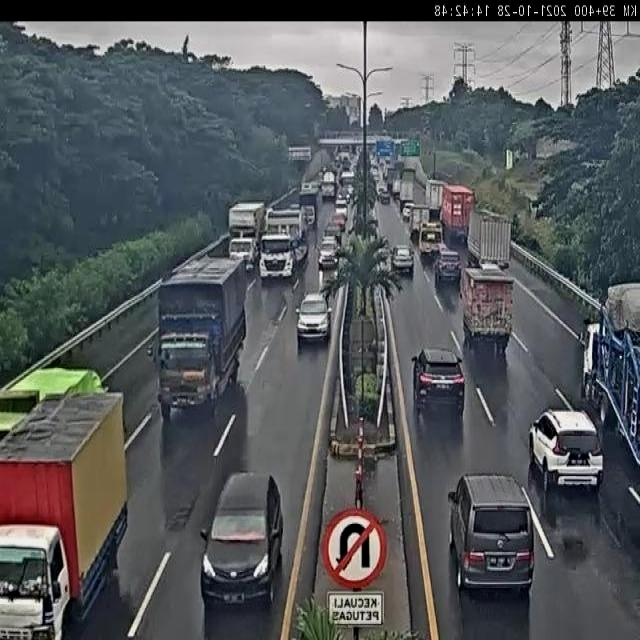Car: (199, 471, 283, 608), (447, 474, 534, 594), (0, 524, 70, 637), (528, 407, 604, 491), (408, 353, 472, 419), (296, 291, 332, 344), (416, 220, 444, 263), (434, 248, 462, 284), (390, 245, 414, 276), (318, 238, 339, 269), (374, 245, 391, 270), (330, 211, 347, 235), (402, 206, 412, 222)
Truck: (0, 388, 127, 636), (146, 248, 244, 416), (581, 286, 640, 474), (460, 266, 514, 356), (467, 209, 512, 273), (264, 207, 308, 271), (228, 200, 259, 270), (440, 184, 475, 245), (406, 203, 432, 252), (424, 179, 446, 224)
